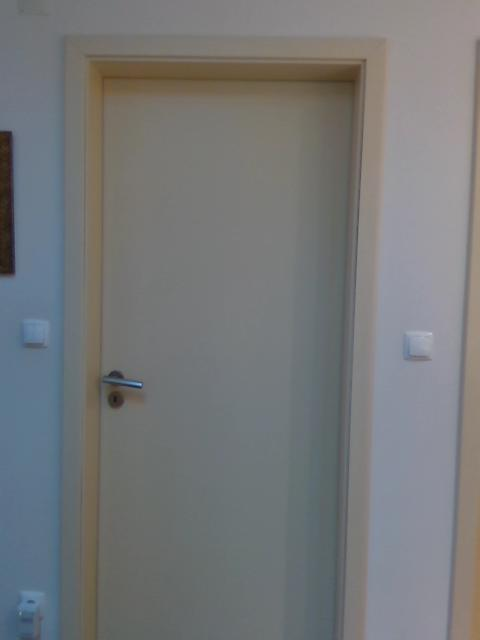door: (96, 77, 347, 640)
